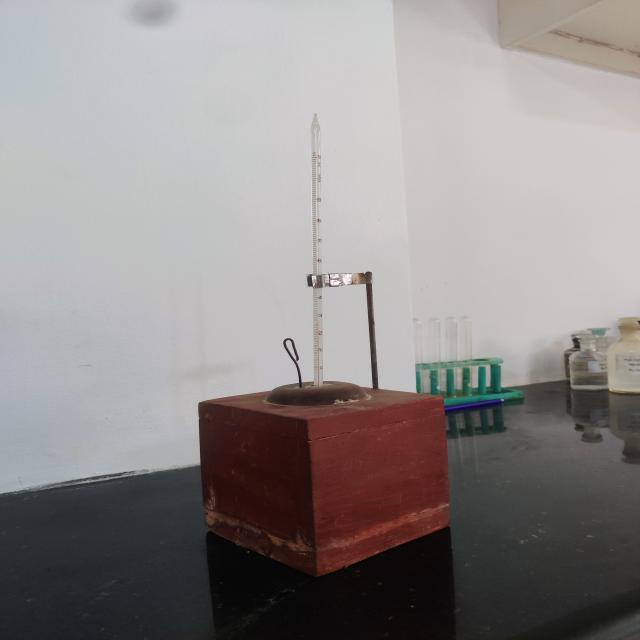Calorimeter: (155, 100, 488, 578)
